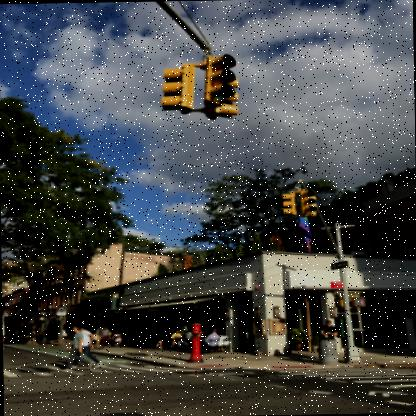trafficlight: (162, 58, 199, 112), (209, 52, 238, 95), (298, 180, 320, 214), (281, 184, 298, 213), (212, 100, 241, 116)
